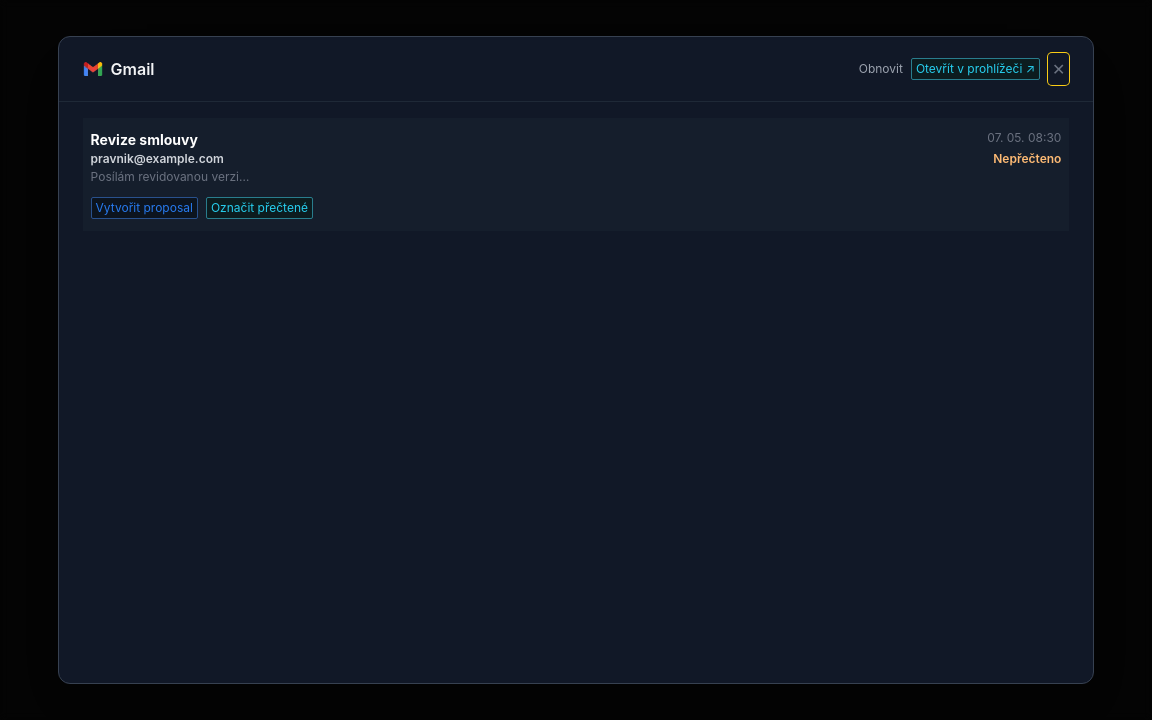
Test: SourcePreviewModal › creates a Gmail proposal only after its explicit message action
The width and height of the screenshot is (1152, 720).
Check: the text "Revize smlouvy" is shown, box [91,130,198,149]
Click the button with aria-label "vytvořit proposal z e-mailu revize smlouvy".
click(144, 208)  # box [91,197,198,219]
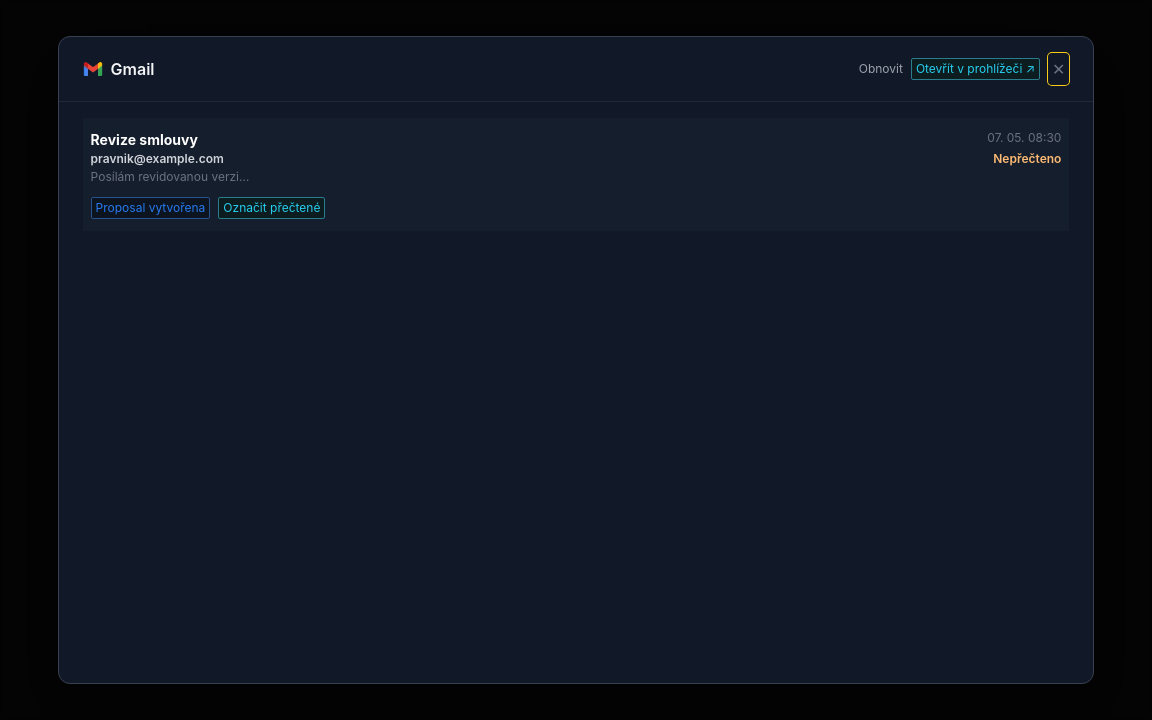
Check: the button "Proposal vytvořena" is disabled, box [91,197,210,219]
